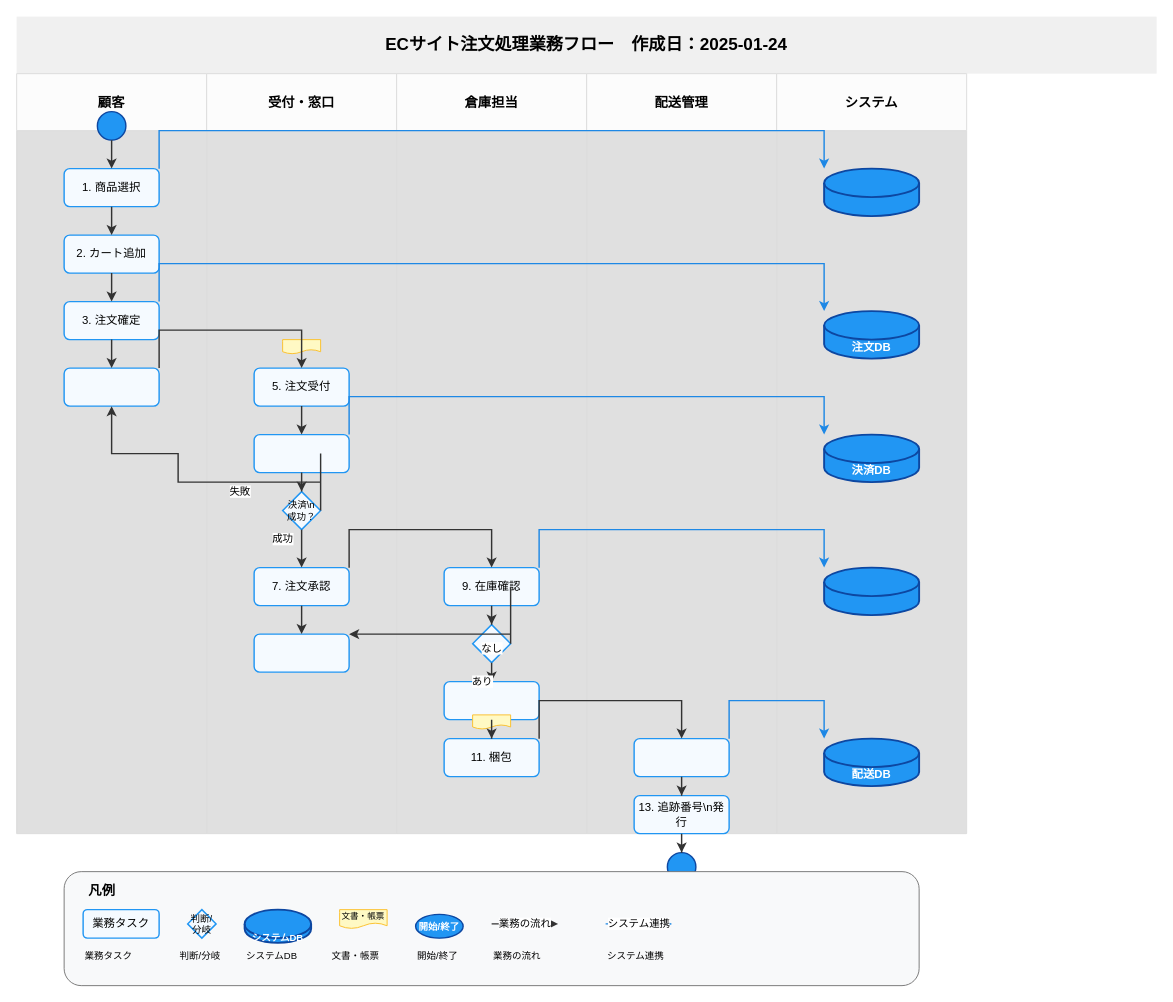
This 1173x1002 diagram has some shape labels left out. The centre of each missing label's shape, as x and y in pixels:
"10. ピッキング" goes at point 491,700.
"12. 配送手配" goes at point 681,757.
"4. 決済実行" goes at point 111,386.
"6. 決済確認" goes at point 301,453.
"8. 顧客通知" goes at point 301,652.
"出荷票" goes at point 491,721.
"商品DB" goes at point 871,192.
"在庫\nあり？" goes at point 491,643.
"在庫DB" goes at point 871,591.
"完了" goes at point 681,866.
"注文書" goes at point 301,346.
"開始" goes at point 111,125.
